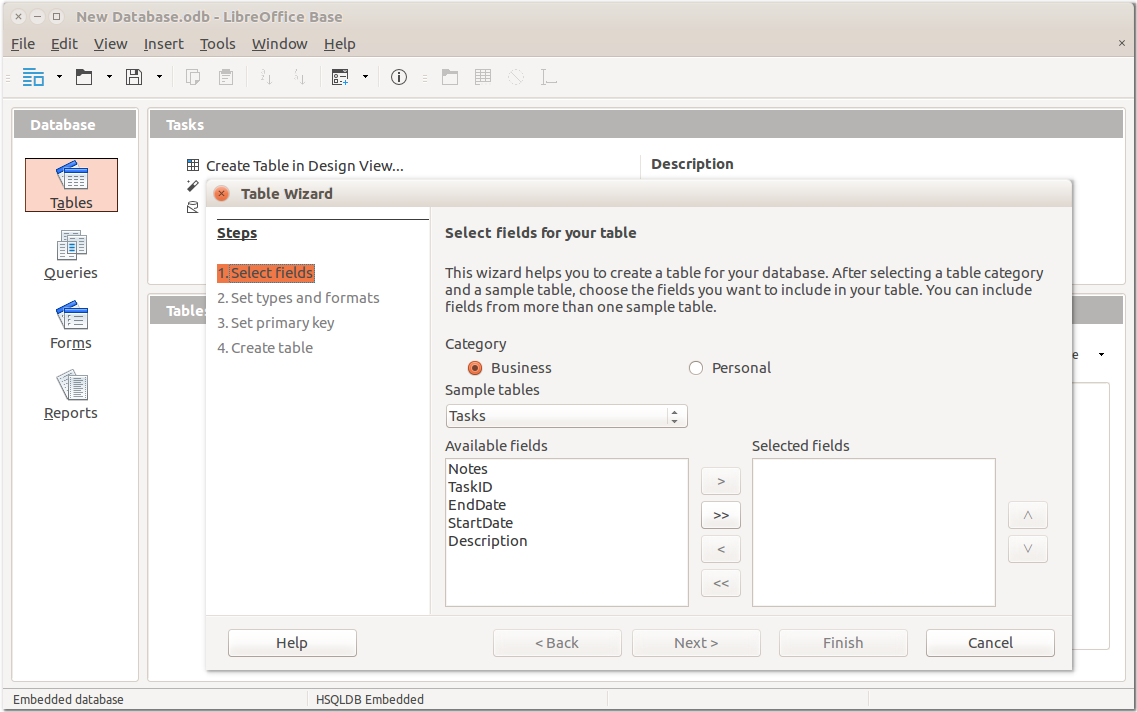button: (445, 402, 688, 429), (23, 157, 119, 214), (185, 154, 412, 177), (444, 530, 688, 551), (445, 512, 689, 532), (446, 460, 688, 478), (446, 478, 688, 495), (446, 496, 688, 513), (40, 367, 107, 426), (40, 226, 104, 285), (493, 628, 622, 657), (632, 629, 762, 657), (926, 629, 1056, 657), (780, 628, 908, 656), (228, 630, 357, 657), (44, 295, 100, 354), (1008, 534, 1050, 563), (701, 500, 741, 529), (1008, 501, 1049, 529), (701, 466, 740, 495), (701, 535, 741, 563), (702, 569, 740, 596), (251, 36, 309, 52), (143, 37, 186, 52), (199, 36, 236, 52), (21, 65, 46, 88), (323, 36, 357, 52), (93, 36, 129, 51), (9, 35, 38, 53), (50, 36, 82, 52), (439, 66, 460, 88), (539, 67, 562, 87), (74, 66, 94, 87), (124, 67, 144, 87), (330, 67, 350, 87), (473, 67, 493, 87), (506, 67, 526, 87), (212, 183, 231, 203), (184, 67, 202, 87), (257, 67, 275, 87), (290, 67, 308, 87), (217, 68, 235, 87), (466, 359, 484, 378), (184, 198, 204, 215), (184, 179, 205, 194), (391, 68, 408, 86), (687, 358, 704, 376), (11, 7, 27, 24), (30, 8, 46, 24), (49, 7, 64, 24), (1115, 35, 1130, 51), (54, 72, 64, 81), (155, 72, 165, 81), (361, 72, 371, 81), (105, 71, 114, 80)
common: (443, 262, 1048, 317), (216, 288, 381, 307), (215, 313, 339, 332), (216, 262, 316, 284), (314, 691, 426, 709), (12, 692, 125, 709), (215, 338, 316, 357), (442, 382, 542, 400), (711, 359, 774, 378), (489, 361, 555, 377)
container: (1, 99, 1137, 689), (207, 178, 1075, 671), (148, 294, 1124, 684), (430, 208, 1074, 617), (149, 109, 1127, 285), (207, 208, 430, 615), (12, 108, 139, 681), (1, 1, 1137, 56), (207, 615, 1074, 672), (1, 56, 1137, 98), (445, 460, 689, 606), (754, 458, 996, 605), (206, 178, 1073, 208), (1, 690, 1137, 712), (16, 60, 172, 93), (432, 58, 569, 93), (248, 61, 320, 93), (175, 62, 245, 94), (686, 355, 779, 379), (464, 357, 559, 380), (322, 61, 378, 95), (381, 61, 419, 96), (20, 65, 65, 90), (123, 65, 166, 91), (72, 65, 115, 90), (328, 66, 373, 88)
header: (150, 110, 1124, 138), (75, 8, 346, 25), (443, 223, 643, 241), (13, 110, 136, 138), (752, 435, 855, 457), (444, 437, 550, 455), (649, 154, 738, 174), (149, 295, 206, 324), (444, 336, 508, 354), (216, 225, 260, 242)
